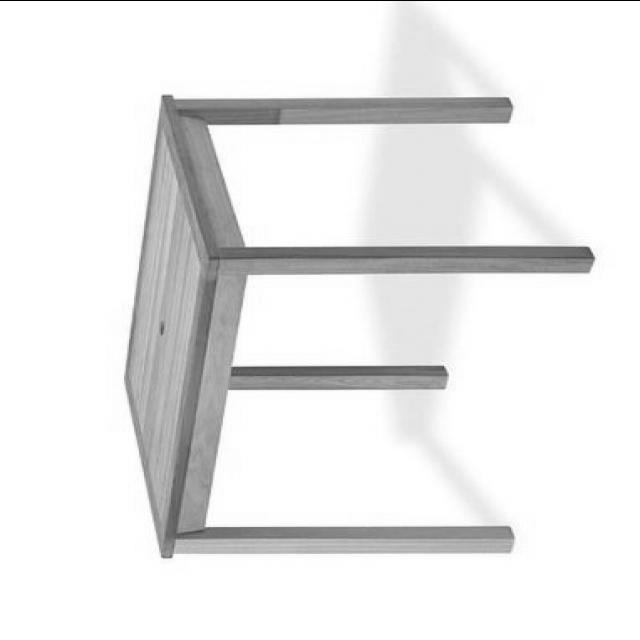table: (119, 92, 593, 562)
